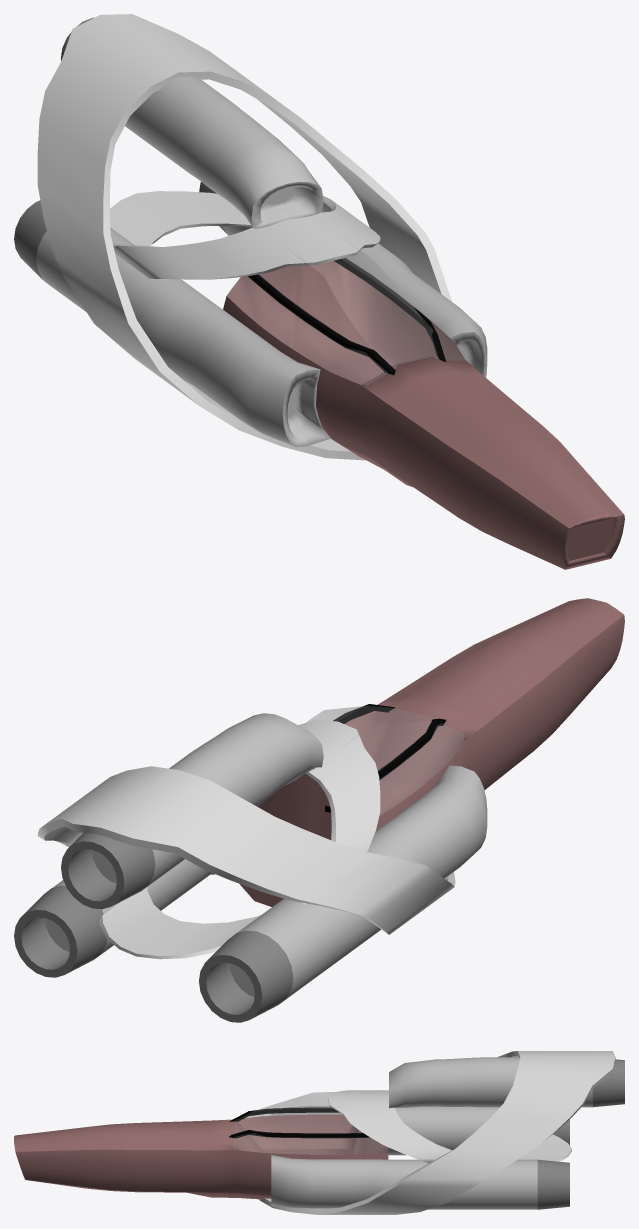
File: fighter4fbx.fbx
The picture shows the model from 3 angles, top to bottom: view 1: azimuth 30°, elevation 25°; view 2: azimuth 150°, elevation 25°; view 3: azimuth 270°, elevation 25°; orthographic projection. The views are drawn at different scales.
Visible parts, largest first — view 1: pCube1, pPipe1, pCylinder1, pCube2, pasted__pPipe1, pasted__pCylinder2, pCylinder2, pCube3, pasted__pasted__pPipe2, pCube4; view 2: pCube1, pPipe1, pCylinder1, pasted__pPipe1, pasted__pCylinder2, pCube2, pasted__pasted__pPipe2, pasted__pasted__pasted__pPipe2, pasted__pPipe2, pCylinder2, pCube3; view 3: pCube1, pPipe1, pCylinder2, pasted__pCylinder2, pCube2, pasted__pPipe1, pCylinder1, pasted__pasted__pasted__pPipe2, pasted__pPipe2, pCube4, pCube3.
Boxes of the visible parts, box(x1,y1,x2,y2) form: pCube1: box(223, 260, 624, 569); pPipe1: box(37, 14, 451, 460); pCylinder1: box(36, 227, 330, 447); pCube2: box(227, 240, 466, 384); pasted__pPipe1: box(110, 191, 380, 279); pasted__pCylinder2: box(125, 76, 323, 228); pCylinder2: box(223, 226, 487, 377); pCube3: box(248, 274, 395, 375); pasted__pasted__pPipe2: box(14, 200, 49, 285); pCube4: box(334, 258, 445, 361); pCube1: box(240, 598, 624, 906); pPipe1: box(37, 766, 455, 934); pCylinder1: box(229, 765, 487, 1001); pasted__pPipe1: box(99, 719, 380, 959); pasted__pCylinder2: box(91, 713, 323, 891); pCube2: box(301, 706, 464, 814); pasted__pasted__pPipe2: box(199, 930, 293, 1022); pasted__pasted__pasted__pPipe2: box(14, 885, 107, 977); pasted__pPipe2: box(61, 833, 155, 909); pCylinder2: box(44, 859, 212, 959); pCube3: box(325, 718, 446, 812); pCube1: box(14, 1114, 388, 1199); pPipe1: box(259, 1051, 615, 1214); pCylinder2: box(271, 1155, 537, 1209); pasted__pCylinder2: box(389, 1057, 592, 1108); pCube2: box(233, 1092, 387, 1154); pasted__pPipe1: box(328, 1090, 571, 1163); pCylinder1: box(271, 1106, 499, 1155); pasted__pasted__pasted__pPipe2: box(537, 1159, 569, 1209); pasted__pPipe2: box(592, 1059, 624, 1107); pCube4: box(229, 1130, 369, 1138); pCube3: box(229, 1107, 339, 1121).
Size of the model in its own units: 8.49 by 5.91 by 24.24.
